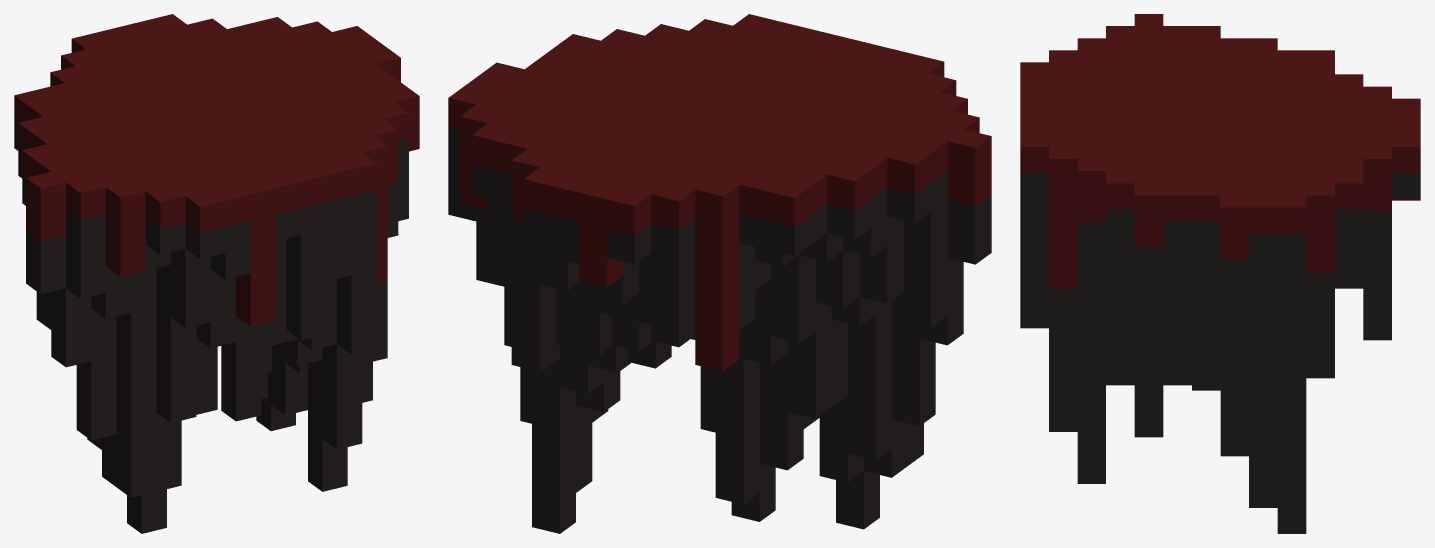
File: rock2.fbx
The picture shows the model from 3 angles, left to right: view 1: azimuth 30°, elevation 25°; view 2: azimuth 150°, elevation 25°; view 3: azimuth 270°, elevation 25°; orthographic projection. The views are drawn at different scales.
Parts seen in each view (by area): view 1: Untitled.001; view 2: Untitled.001; view 3: Untitled.001.
Part boxes in pixels (x1=…): Untitled.001: x1=14, y1=14, x2=419, y2=533; Untitled.001: x1=448, y1=14, x2=991, y2=533; Untitled.001: x1=1020, y1=14, x2=1420, y2=533.
Bounding box in the file's own units: 160 × 140 × 140.
